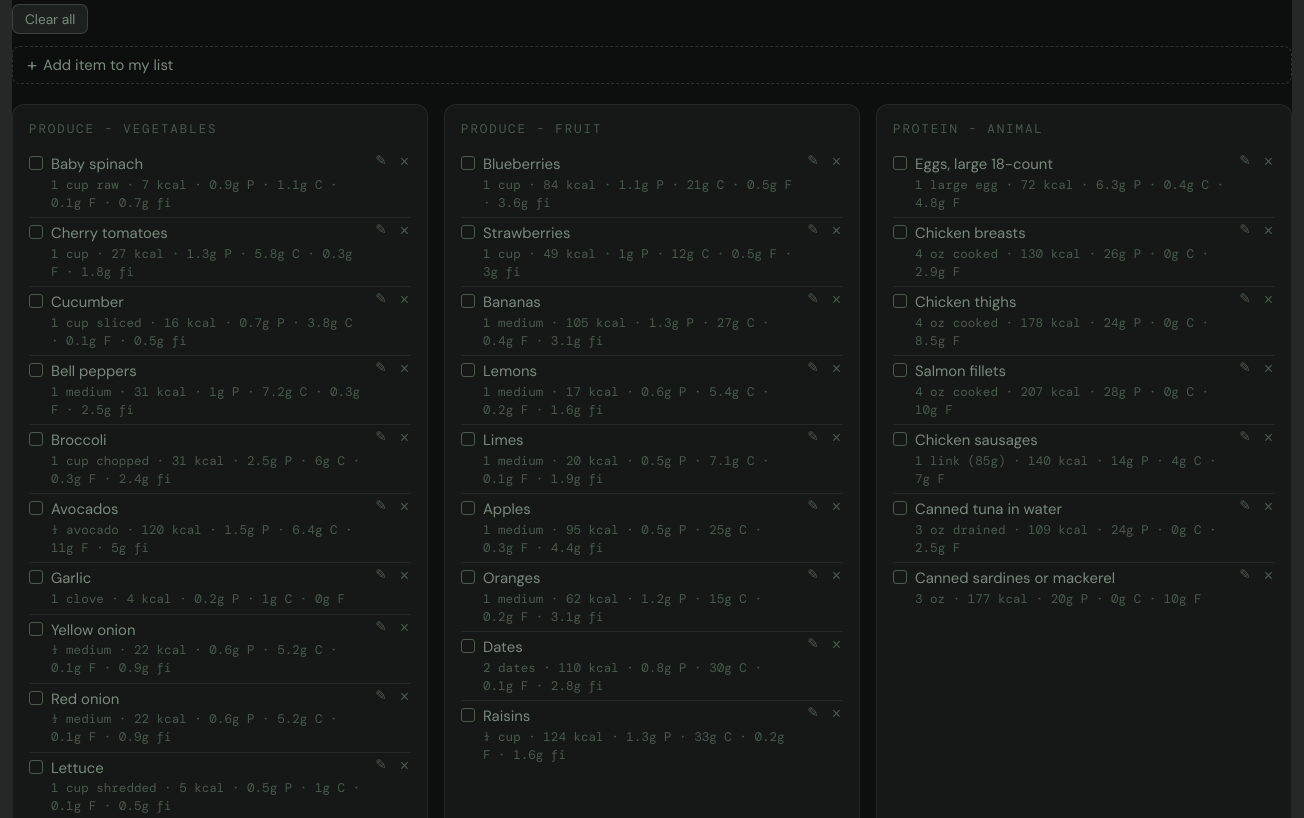
it: GroceryPanel — dynamic catalog › submitting adds the item and it appears in the list
Click the button with aria-label "add grocery item" at {"x": 108, "y": 65}, box [12,46,1292,84]
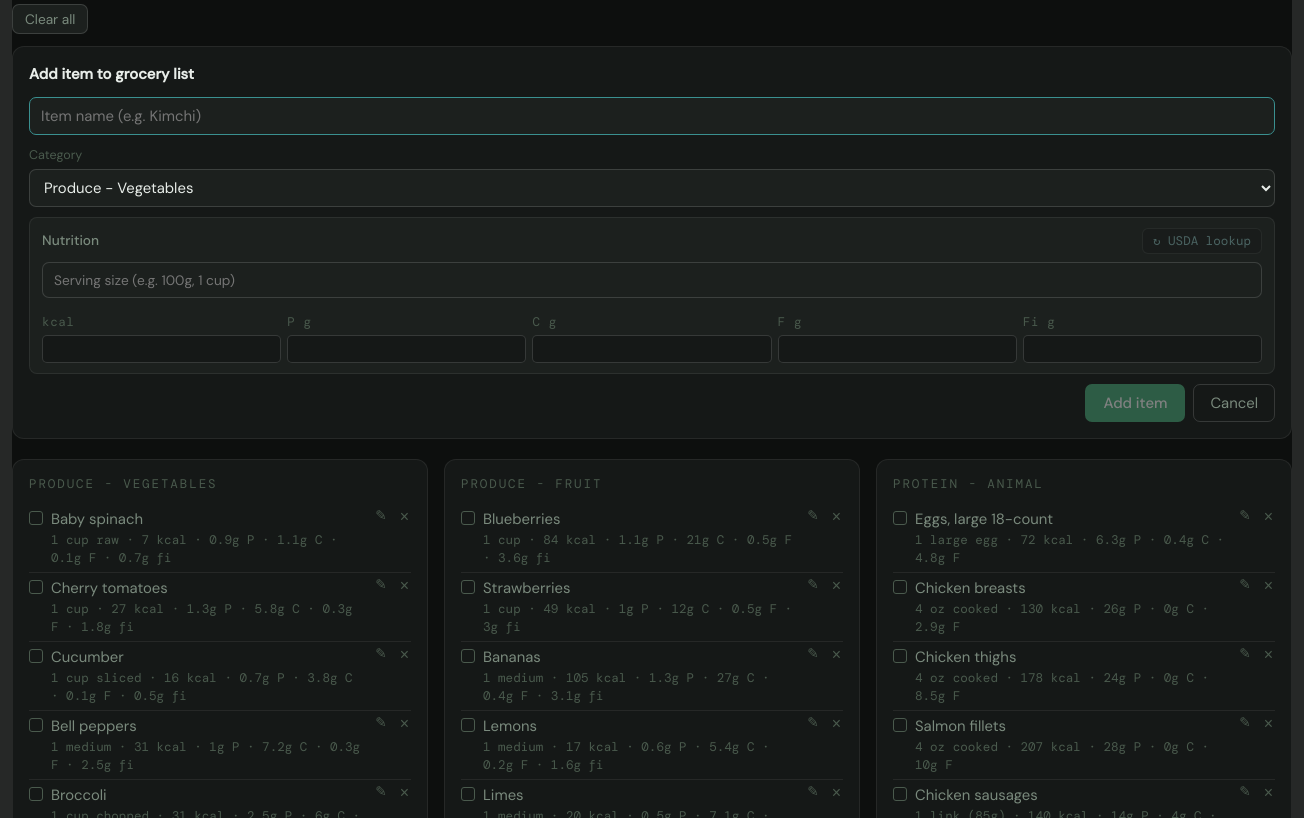
Type "Kimchi" into the field with placeholder "Item name (e.g. Kimchi)" at {"x": 652, "y": 116}, box [29,97,1275,135]
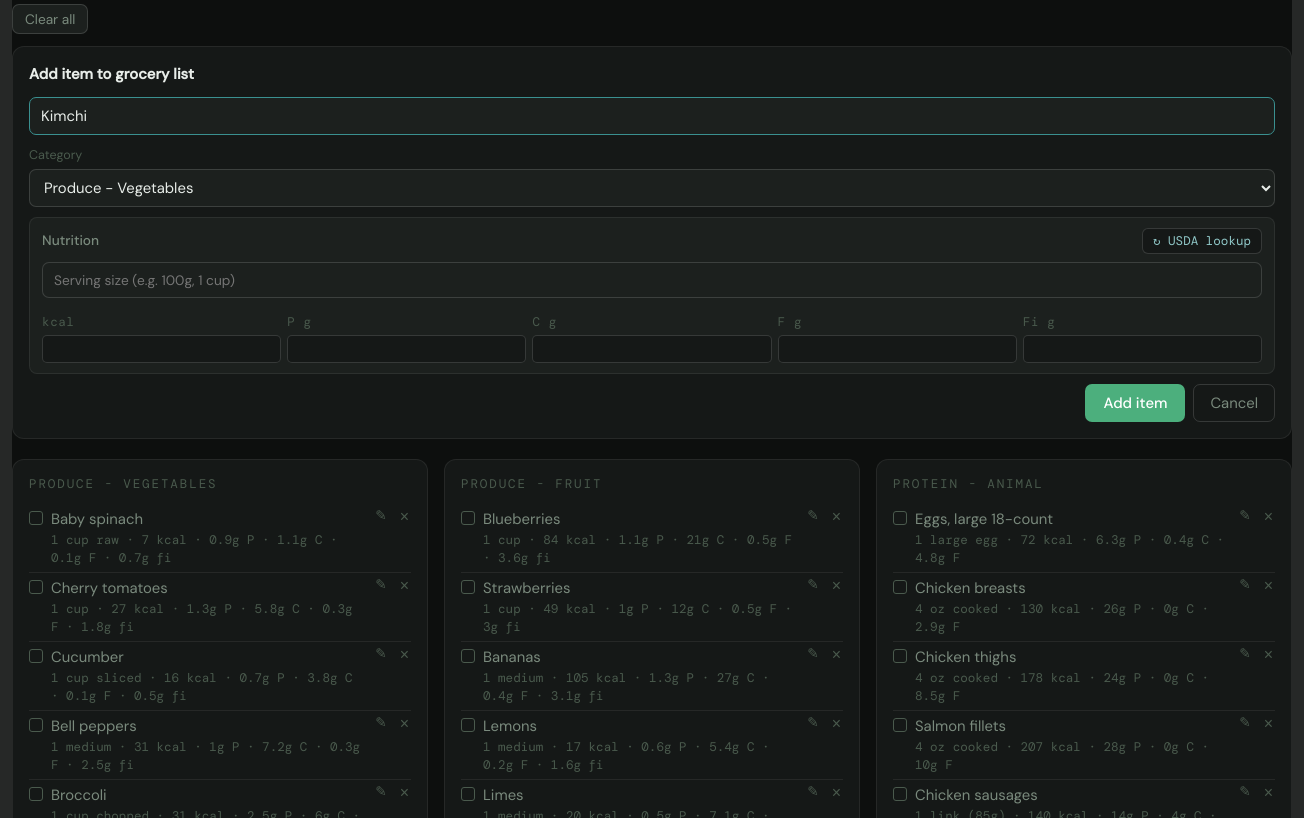
Click the button "Add item" at {"x": 1136, "y": 403}, box [1086,384,1186,422]
(page scrolled)
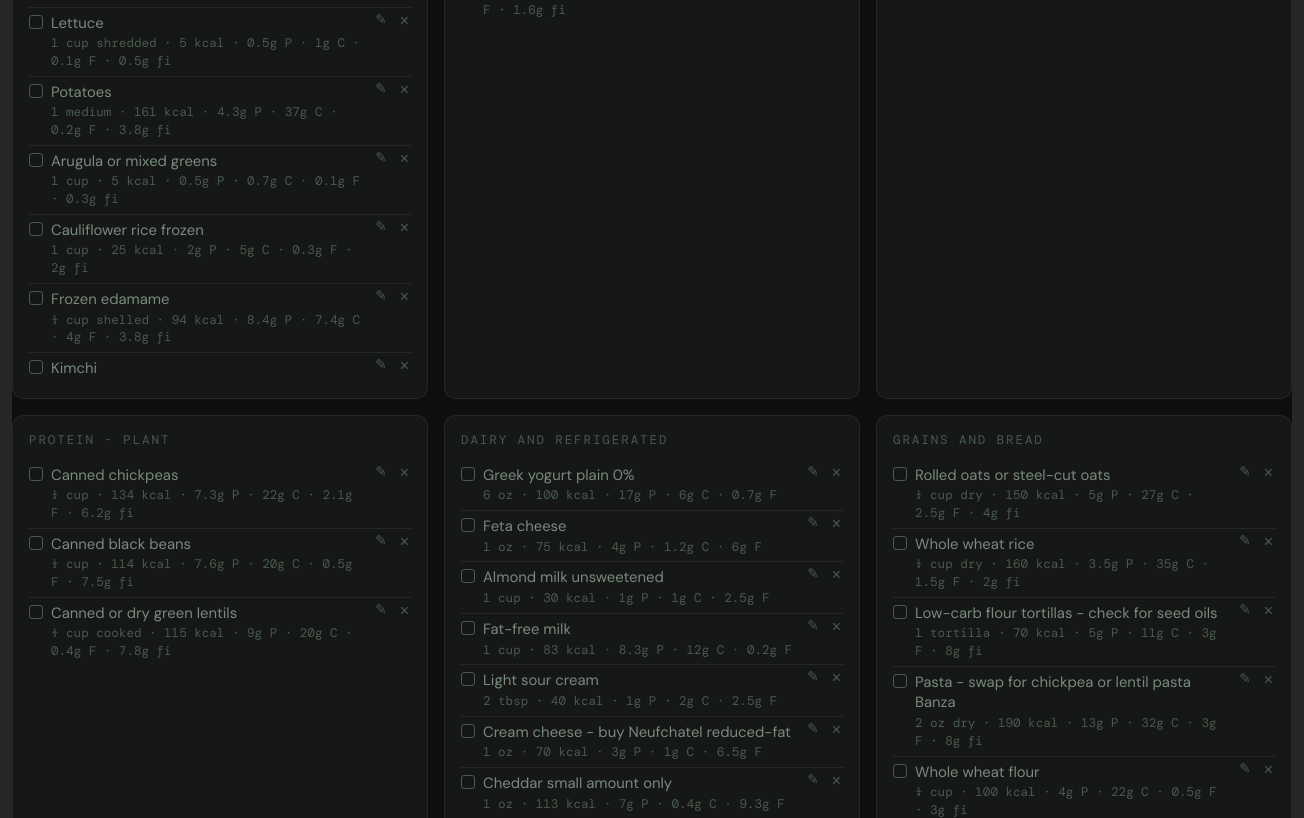
Expected: the field with placeholder "Item name" is not shown
Now the text "Kimchi" is shown, box [51,358,97,378]
